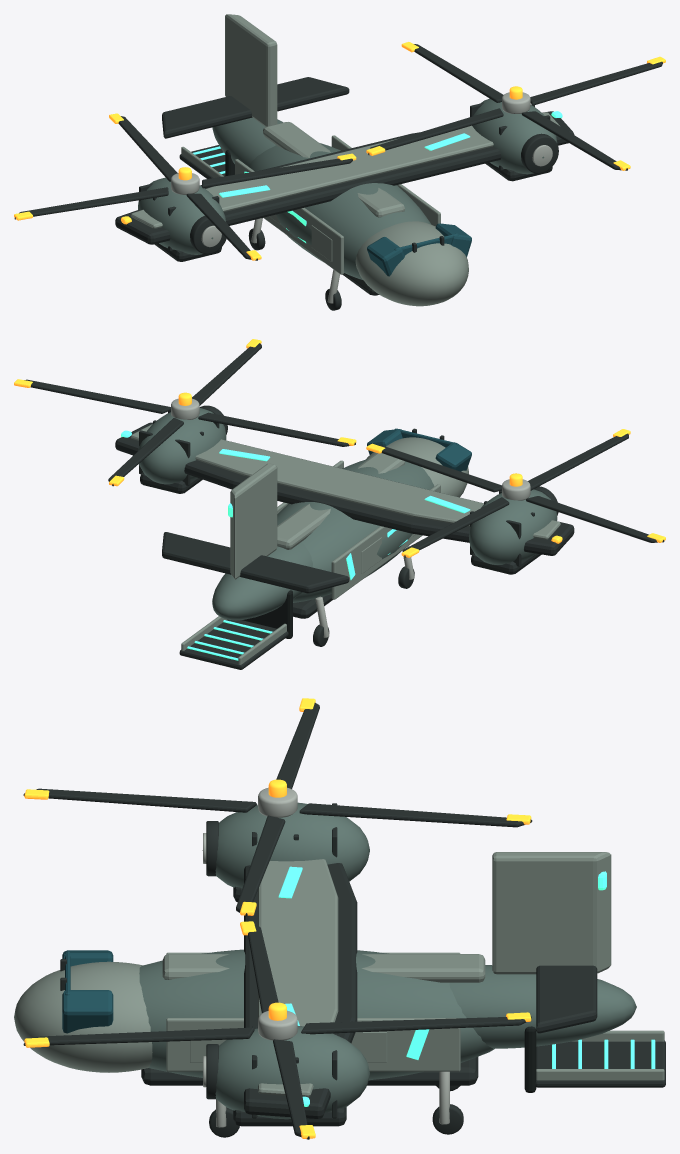
Rendered from extraction_aircraft.glb.
3 renders of one model, top to bottom at view 1: azimuth 30°, elevation 25°; view 2: azimuth 150°, elevation 25°; view 3: azimuth 270°, elevation 25°, orthographic. The views are drawn at different scales.
Visible parts, largest first — view 1: AircraftExterior, RightRotorAssembly, LeftRotorAssembly, RightNacelleShell, LeftNacelleShell, BoardingDoorAssembly; view 2: AircraftExterior, LeftRotorAssembly, RightRotorAssembly, LeftNacelleShell, RightNacelleShell, BoardingDoorAssembly; view 3: AircraftExterior, RightNacelleShell, LeftRotorAssembly, RightRotorAssembly, LeftNacelleShell, BoardingDoorAssembly.
Part boxes in pixels (box(x1,y1,x2,y2)): AircraftExterior: box(115, 14, 574, 310); RightRotorAssembly: box(366, 42, 665, 170); LeftRotorAssembly: box(14, 113, 356, 260); RightNacelleShell: box(470, 98, 558, 181); LeftNacelleShell: box(138, 177, 226, 261); BoardingDoorAssembly: box(179, 145, 225, 178); AircraftExterior: box(115, 422, 574, 646); LeftRotorAssembly: box(366, 429, 665, 557); RightRotorAssembly: box(14, 339, 356, 486); LeftNacelleShell: box(469, 486, 558, 574); RightNacelleShell: box(138, 405, 227, 493); BoardingDoorAssembly: box(179, 616, 288, 669); AircraftExterior: box(14, 852, 636, 1137); RightNacelleShell: box(202, 1026, 369, 1126); LeftRotorAssembly: box(23, 698, 532, 916); RightRotorAssembly: box(23, 921, 531, 1139); LeftNacelleShell: box(202, 802, 369, 902); BoardingDoorAssembly: box(535, 1030, 665, 1087).
Bounding box in the file's own units: 14.61 × 4.01 × 9.19.
